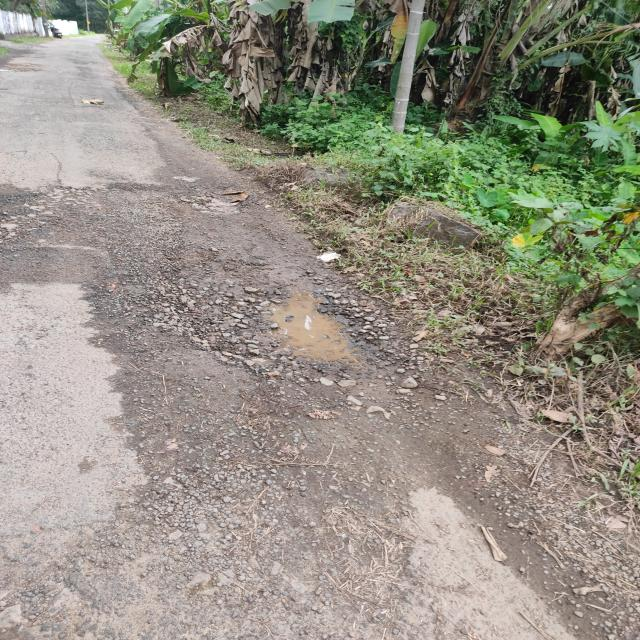potholes: (198, 272, 392, 392)
